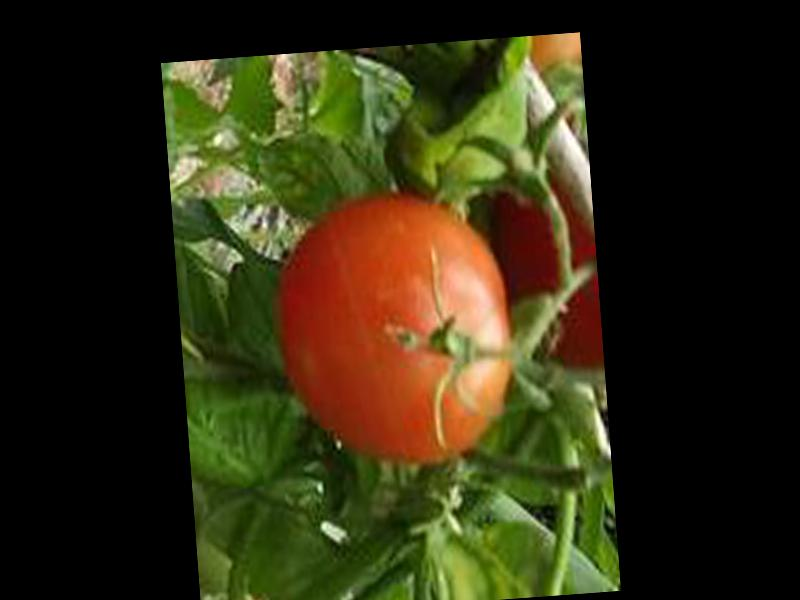Tomato: (276, 189, 520, 470)
